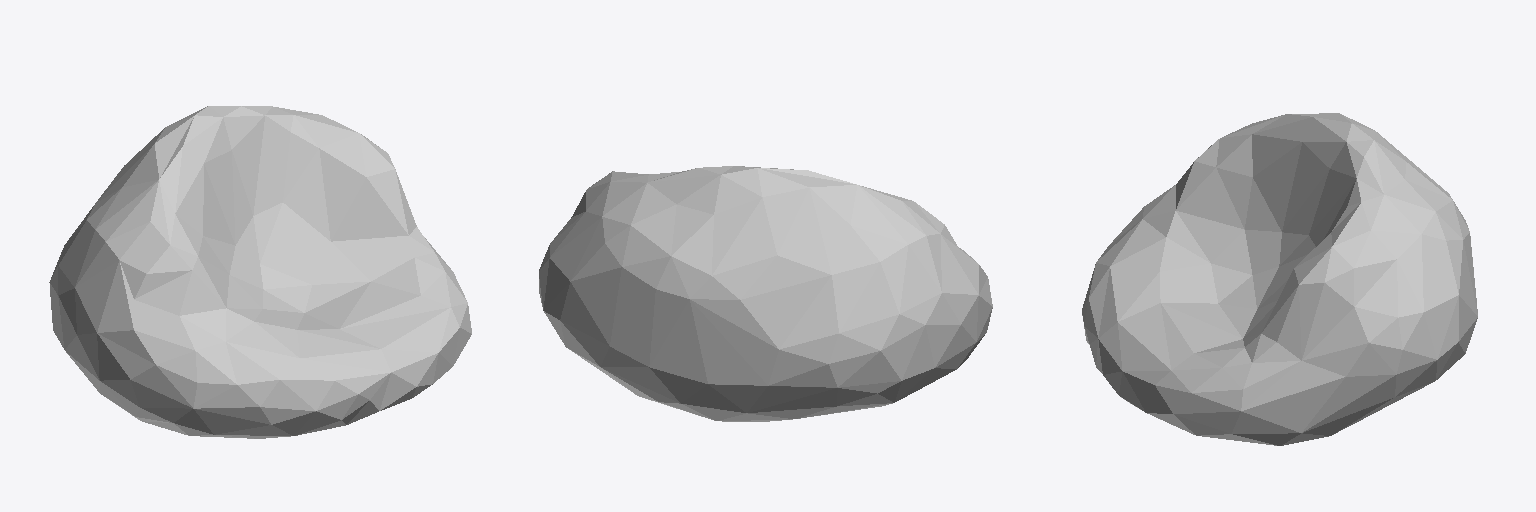
File: beanbag.obj
3 renders of one model, left to right at view 1: azimuth 30°, elevation 25°; view 2: azimuth 150°, elevation 25°; view 3: azimuth 270°, elevation 25°, orthographic.
Visible parts, largest first — view 1: Sphere; view 2: Sphere; view 3: Sphere.
Boxes of the visible parts, box(x1,y1,x2,y2) form: Sphere: box(49, 106, 471, 438); Sphere: box(539, 166, 992, 421); Sphere: box(1082, 113, 1477, 445).
Bounding box in the file's own units: 3.07 × 1.9 × 2.83.